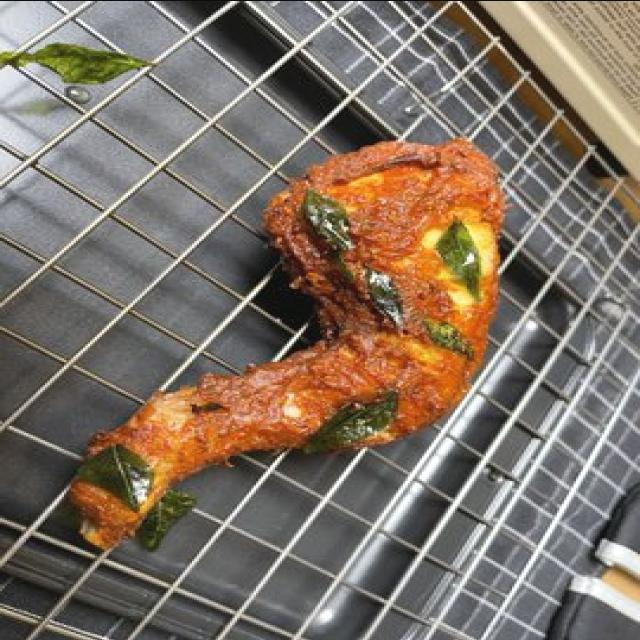ayam goreng: (66, 139, 505, 548)
